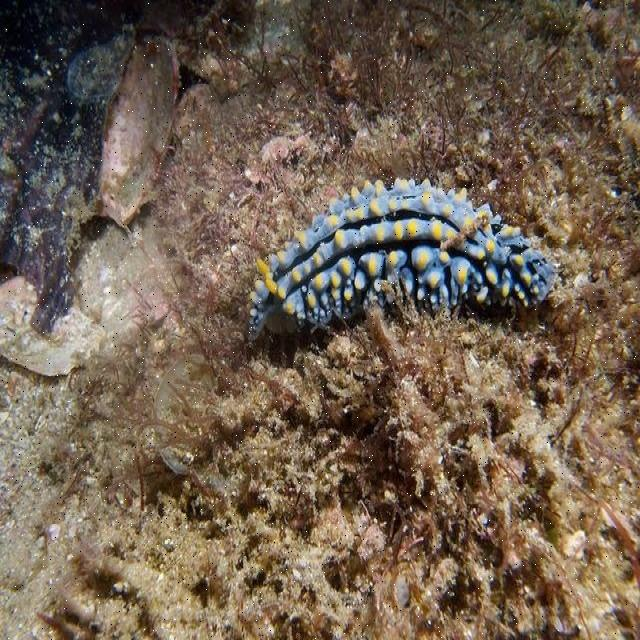reefs: (250, 178, 552, 342)
